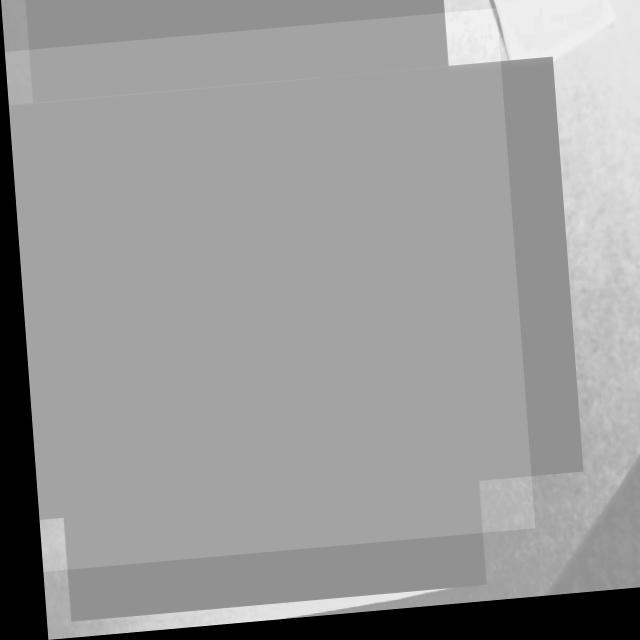qr_code: (3, 18, 525, 572)
